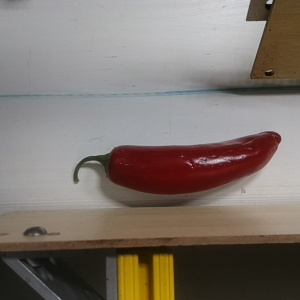Cut Point: (95, 143, 130, 185)
